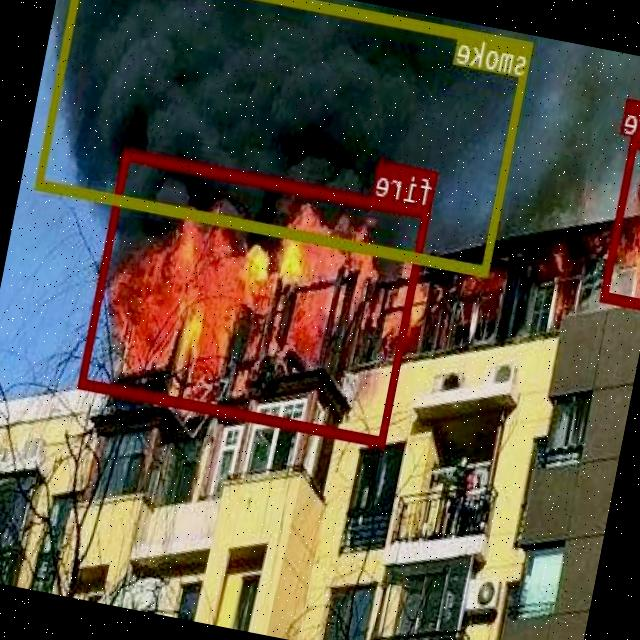fire: (79, 148, 432, 446), (603, 134, 640, 309)
smoke: (36, 0, 534, 274)
